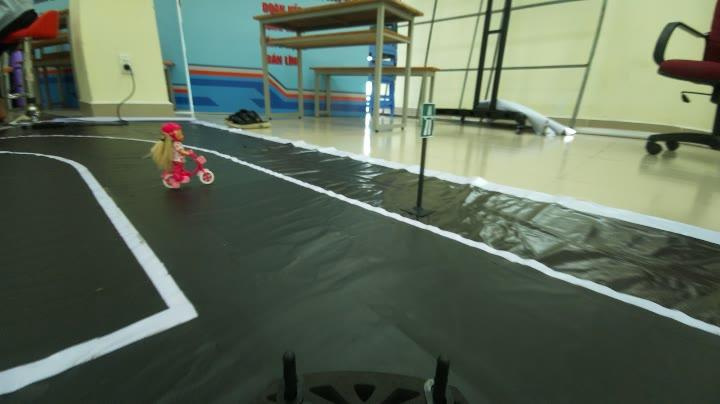highway_entry: (409, 102, 447, 140)
pedestrian: (151, 121, 222, 189)
